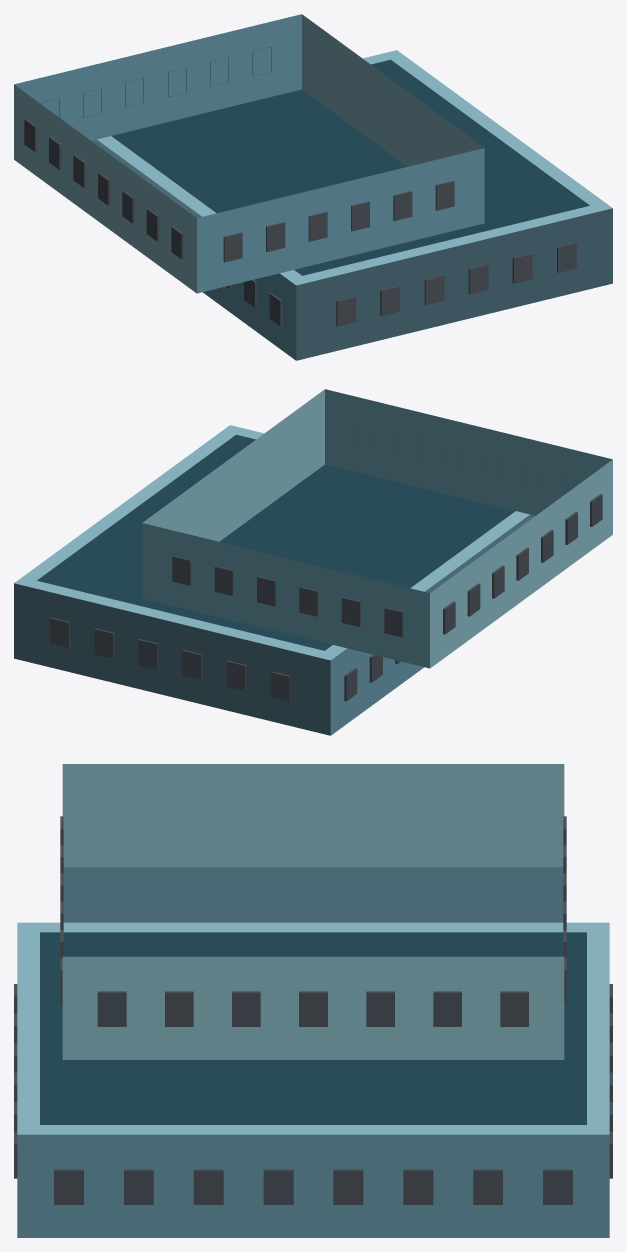
The model's file is TB_CITY_Skysc_S_Mid_Top_Blue.FBX.
3 views of the same model, one above another, from view 1: azimuth 30°, elevation 25°; view 2: azimuth 150°, elevation 25°; view 3: azimuth 270°, elevation 25° (orthographic). The views are drawn at different scales.
Visible parts, largest first — view 1: TB_CITY_Skysc_S_Mid_Top_Blue; view 2: TB_CITY_Skysc_S_Mid_Top_Blue; view 3: TB_CITY_Skysc_S_Mid_Top_Blue.
Part boxes in pixels (x1,y1,x2,y2): TB_CITY_Skysc_S_Mid_Top_Blue: [14, 14, 612, 360]; TB_CITY_Skysc_S_Mid_Top_Blue: [14, 389, 612, 735]; TB_CITY_Skysc_S_Mid_Top_Blue: [14, 764, 612, 1237].
Size of the model in its own units: 28.07 by 10 by 26.28.
